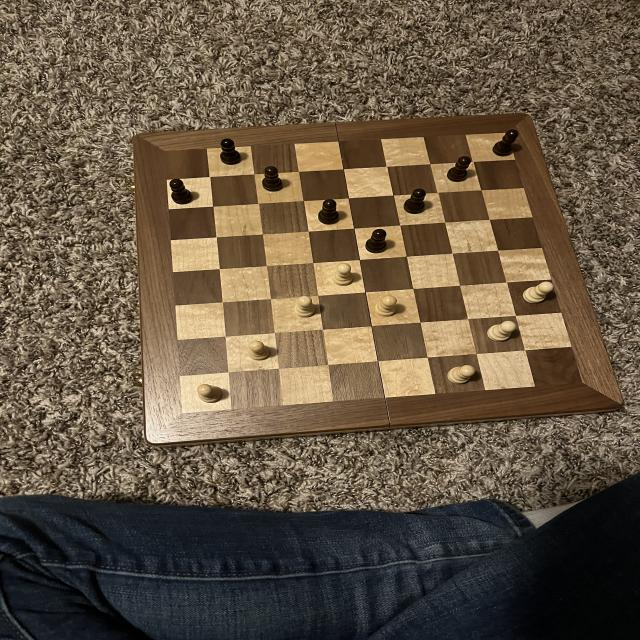black-knight: (442, 153, 477, 184), (166, 176, 197, 206), (491, 128, 521, 158), (314, 197, 344, 226), (401, 187, 430, 215), (217, 136, 244, 166), (260, 165, 288, 193), (364, 228, 390, 255)
white-knight: (444, 358, 478, 388), (522, 281, 558, 306), (326, 262, 358, 288), (487, 319, 517, 345), (194, 382, 226, 406), (292, 294, 320, 320), (372, 293, 399, 319), (246, 338, 271, 361)
